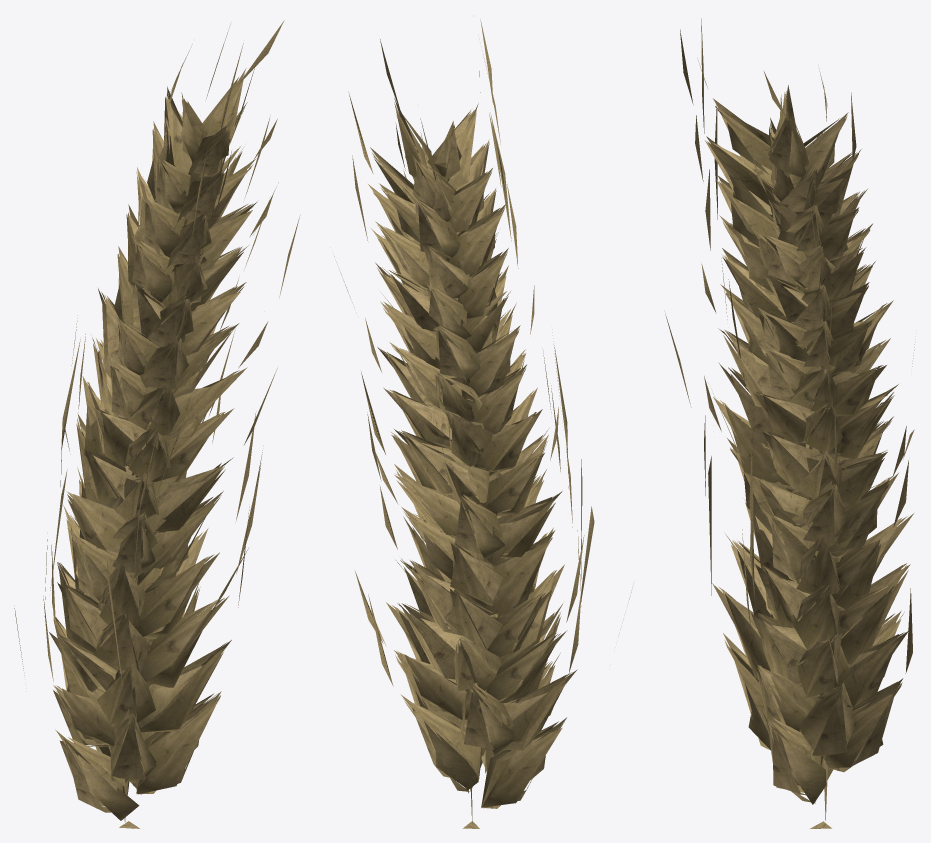
The model's file is wheat_stalk.glb.
3 views of the same model, side by side, from view 1: azimuth 30°, elevation 25°; view 2: azimuth 150°, elevation 25°; view 3: azimuth 270°, elevation 25° (orthographic). The views are drawn at different scales.
Visible parts, largest first — view 1: defaultMaterial, defaultMaterial.001; view 2: defaultMaterial, defaultMaterial.001; view 3: defaultMaterial.001, defaultMaterial.
Part boxes in pixels (<box>): defaultMaterial: <box>49,23,269,820</box>; defaultMaterial.001: <box>14,20,300,828</box>; defaultMaterial: <box>334,92,577,808</box>; defaultMaterial.001: <box>368,20,631,828</box>; defaultMaterial.001: <box>665,18,914,828</box>; defaultMaterial: <box>705,68,913,803</box>.
Size of the model in its own units: 0.6547 by 1.74 by 0.4741.
Materials: 1 (1 with a texture image).
